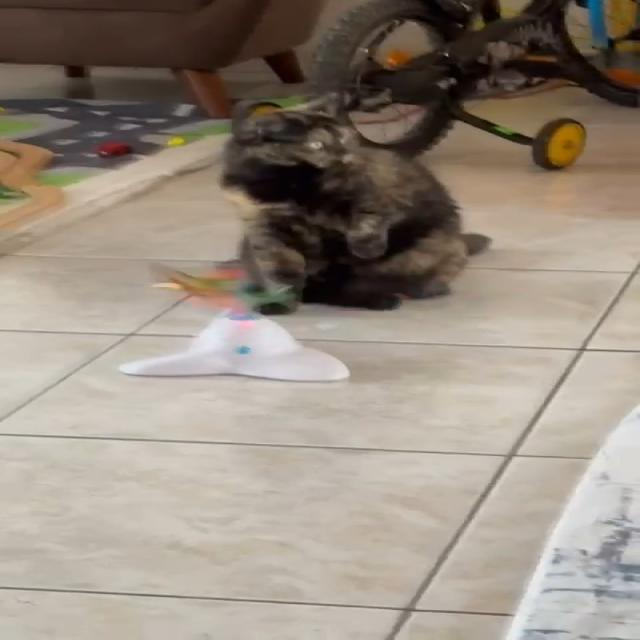authorized: (217, 89, 492, 311)
